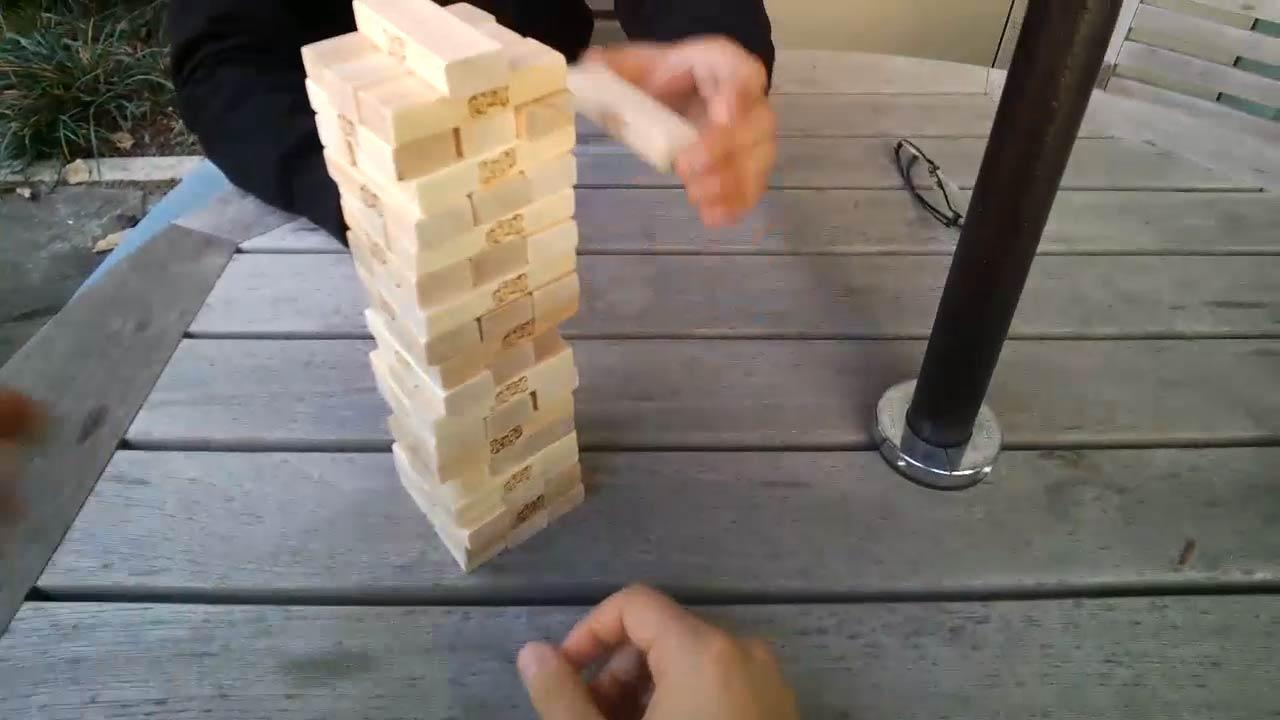hand: (509, 580, 817, 720), (575, 32, 780, 221)
